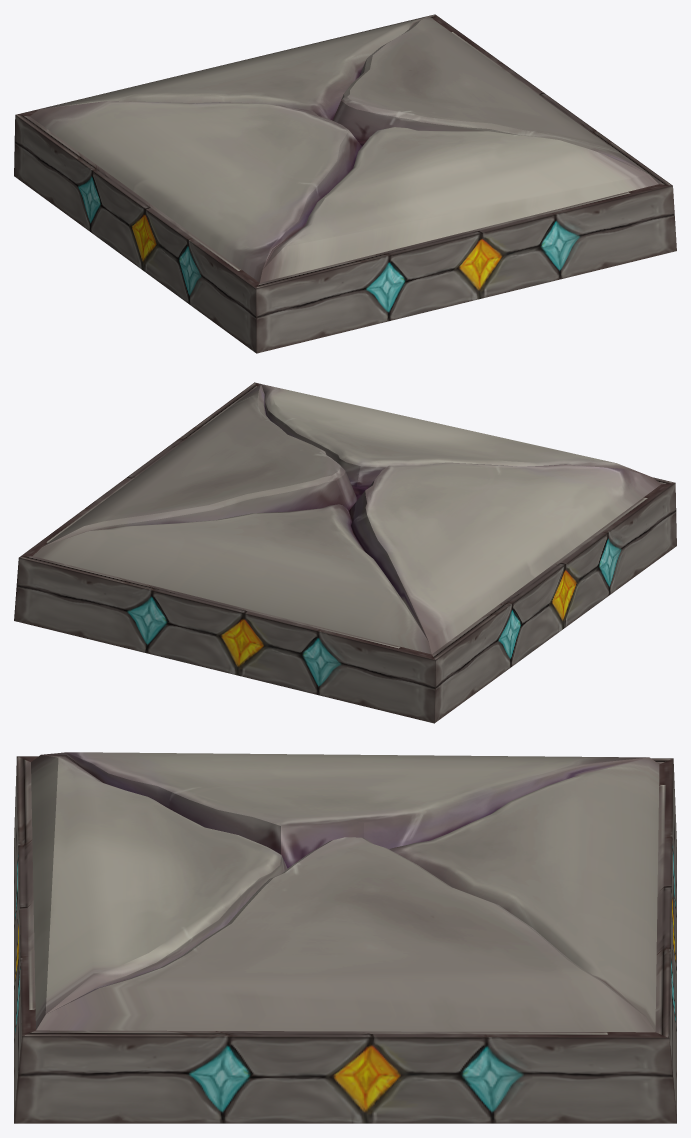
File: CrystalHolder.fbx
3 views of the same model, one above another, from view 1: azimuth 30°, elevation 25°; view 2: azimuth 150°, elevation 25°; view 3: azimuth 270°, elevation 25° (orthographic). The views are drawn at different scales.
Visible parts, largest first — view 1: pCube4; view 2: pCube4; view 3: pCube4.
Part boxes in pixels (<box>): pCube4: <box>14,14,676,353</box>; pCube4: <box>14,382,676,723</box>; pCube4: <box>14,752,676,1123</box>.
Bounding box in the file's own units: 2.23 × 0.5608 × 2.23.
1 material, 1 textured.
